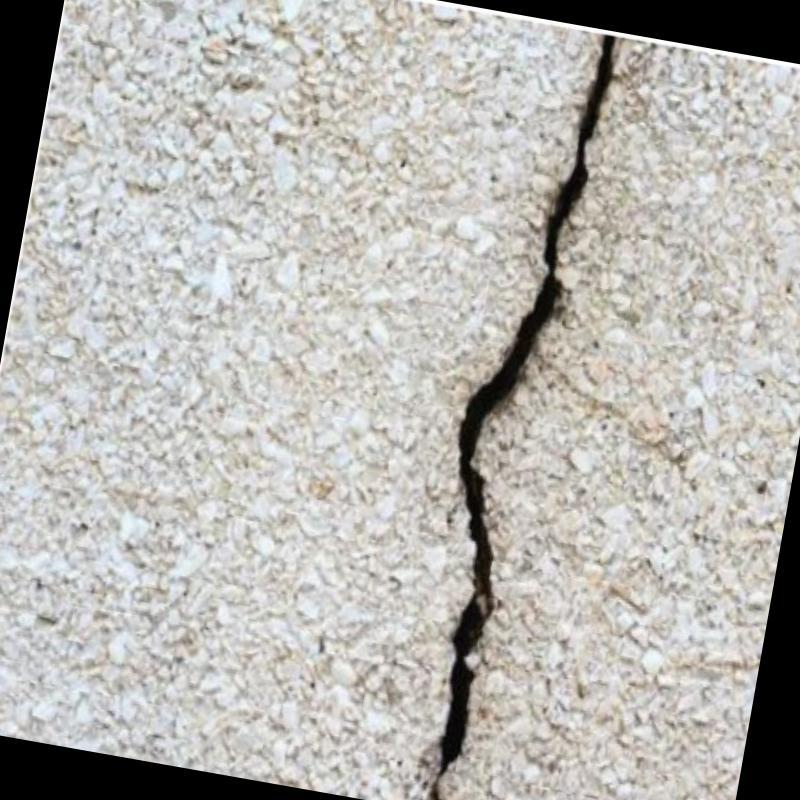pothole: (430, 36, 613, 800)
